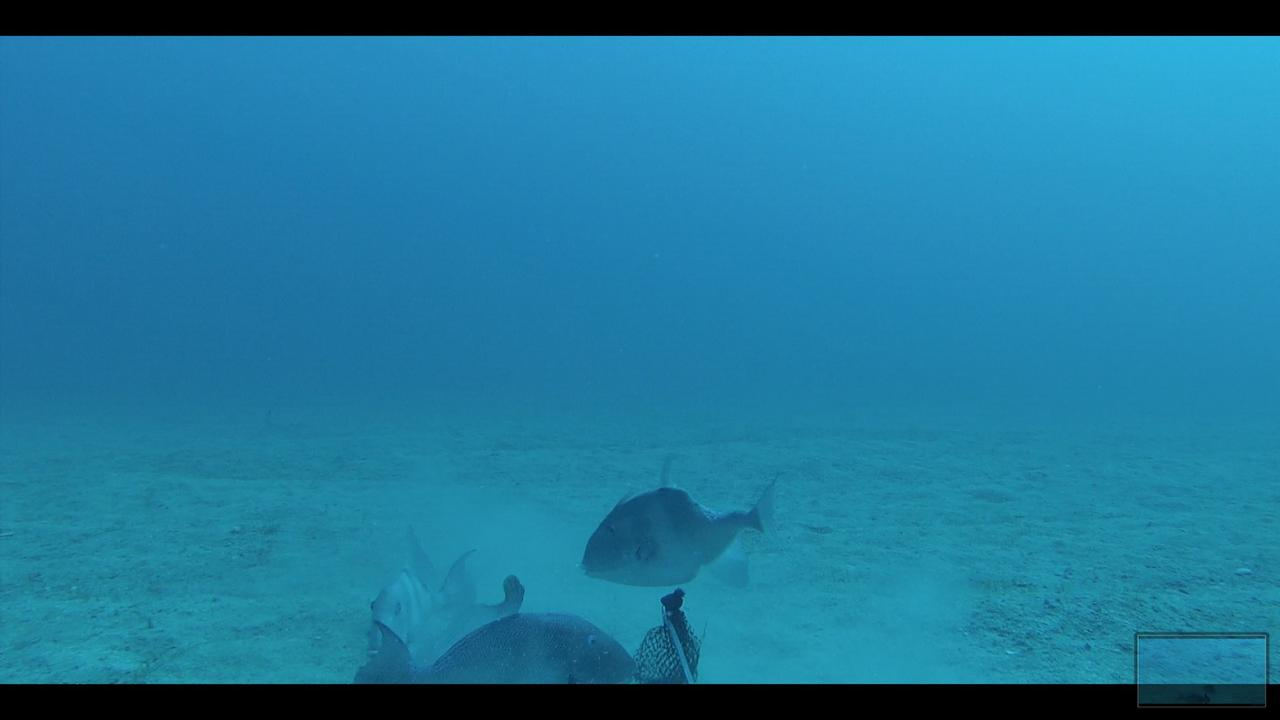balistes: (568, 449, 790, 595), (343, 615, 636, 684), (358, 519, 483, 658)
